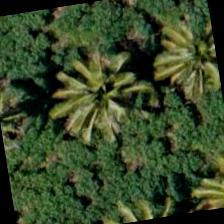Kelapa_Sawit: (40, 43, 142, 146), (148, 5, 222, 104), (186, 153, 223, 212)
